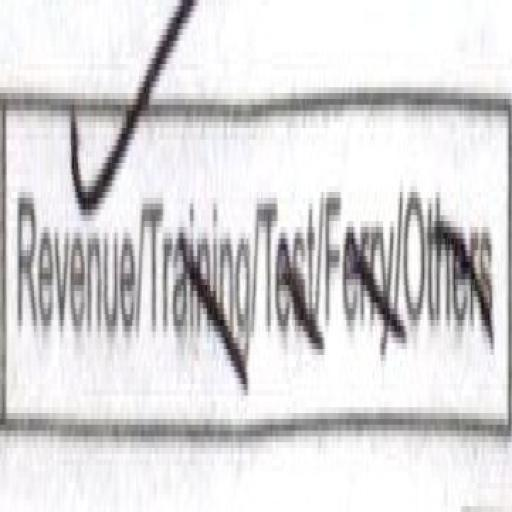check: (0, 0, 145, 460)
